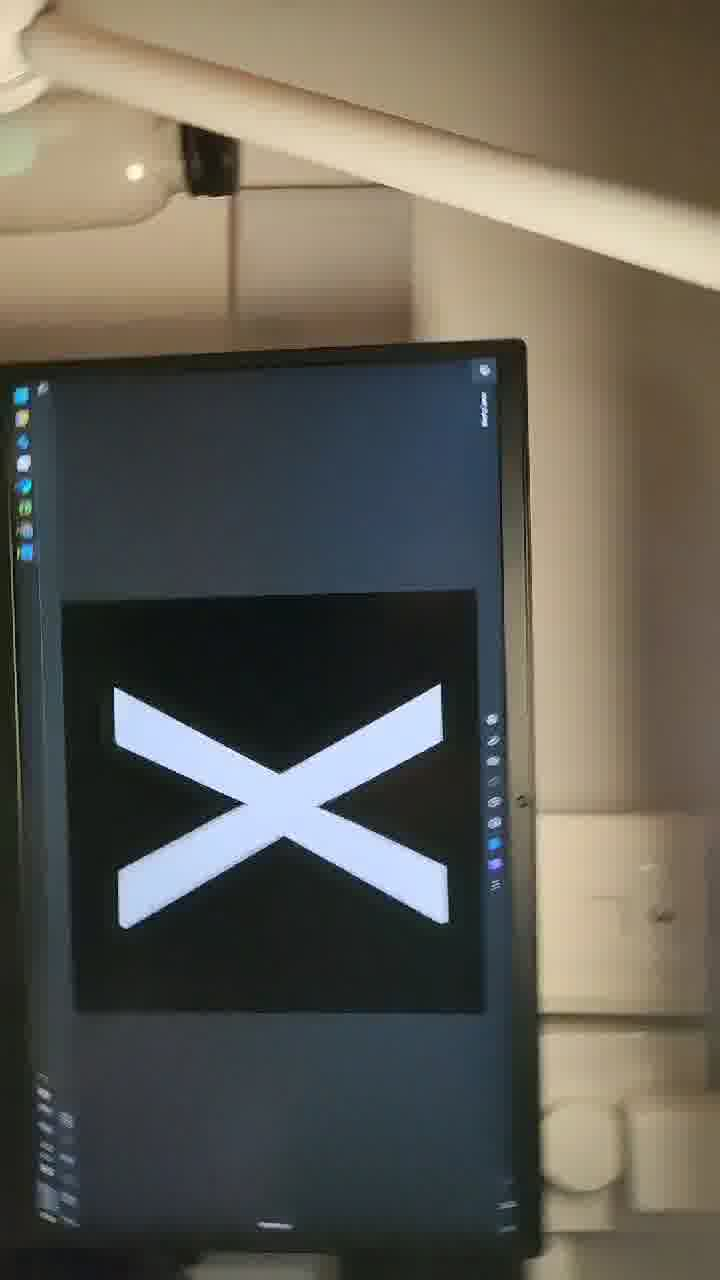X: (76, 625, 573, 1013)
